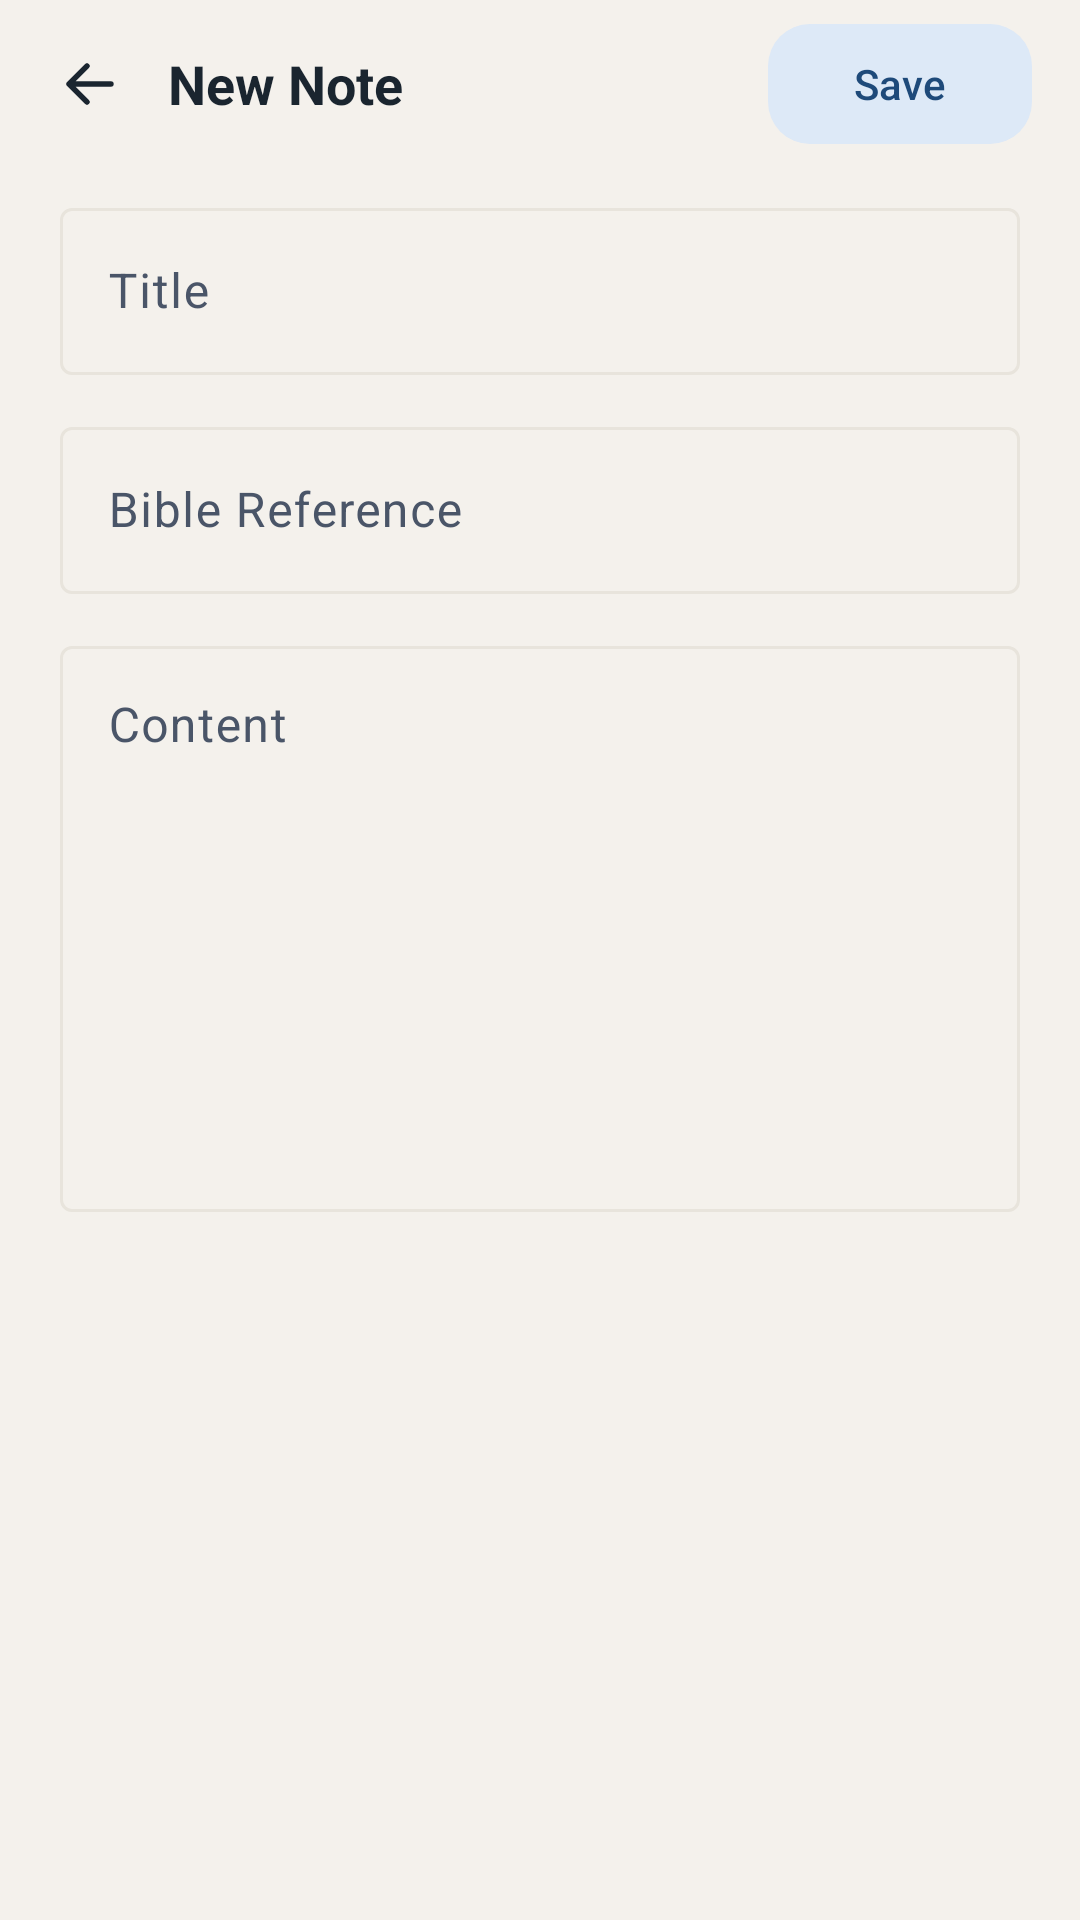

Point at icon controls on the screen. Image size 1080×1920, points as (x,y).
Back: (90,84)
